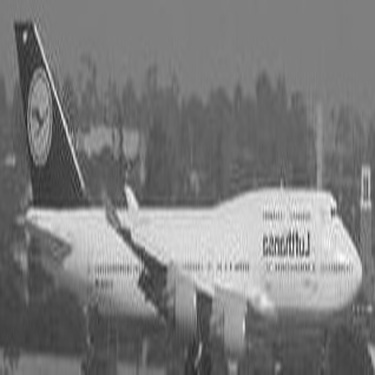airplane: (4, 12, 372, 373)
